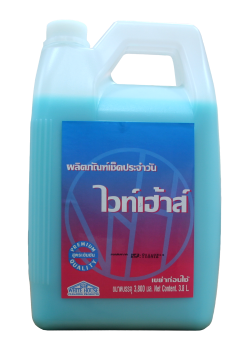Cleaning_solution: (27, 16, 223, 333)
